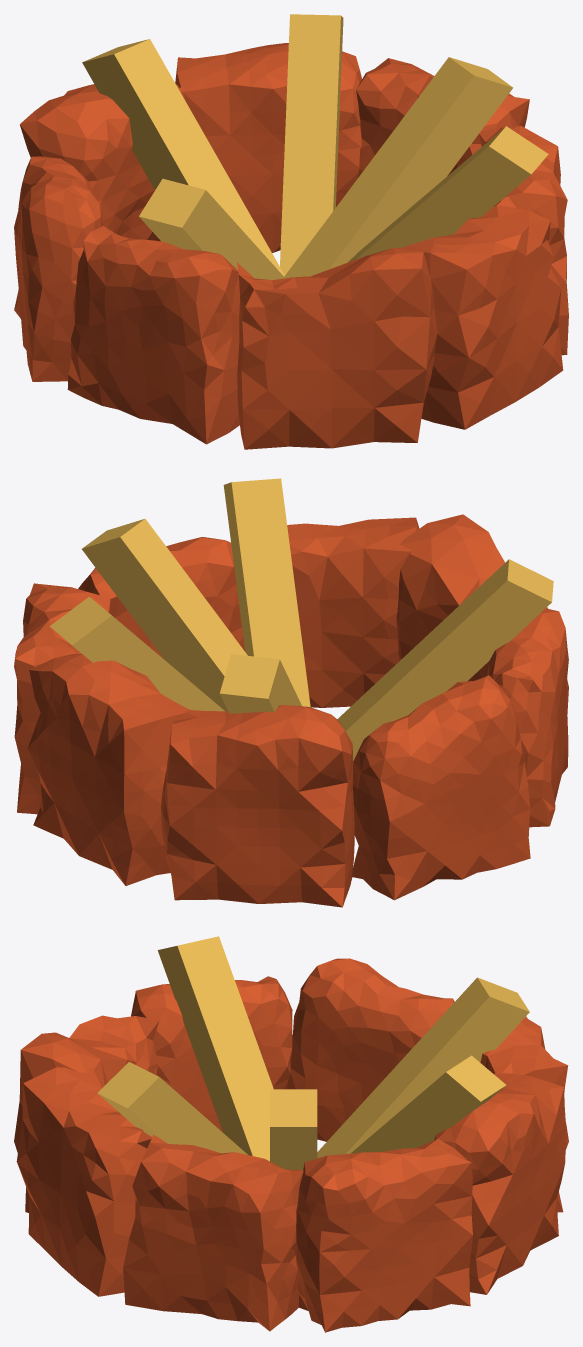
File: Fireplace.fbx
3 views of the same model, one above another, from view 1: azimuth 30°, elevation 25°; view 2: azimuth 150°, elevation 25°; view 3: azimuth 270°, elevation 25° (orthographic). The views are drawn at different scales.
Parts seen in each view (by area): view 1: Fireplace; view 2: Fireplace; view 3: Fireplace.
Boxes of the visible parts, left/top/right/bottom form: Fireplace: left=14, top=14, right=568, bottom=449; Fireplace: left=14, top=478, right=568, bottom=907; Fireplace: left=14, top=936, right=568, bottom=1332.
Bounding box in the file's own units: 261 × 116 × 271.
